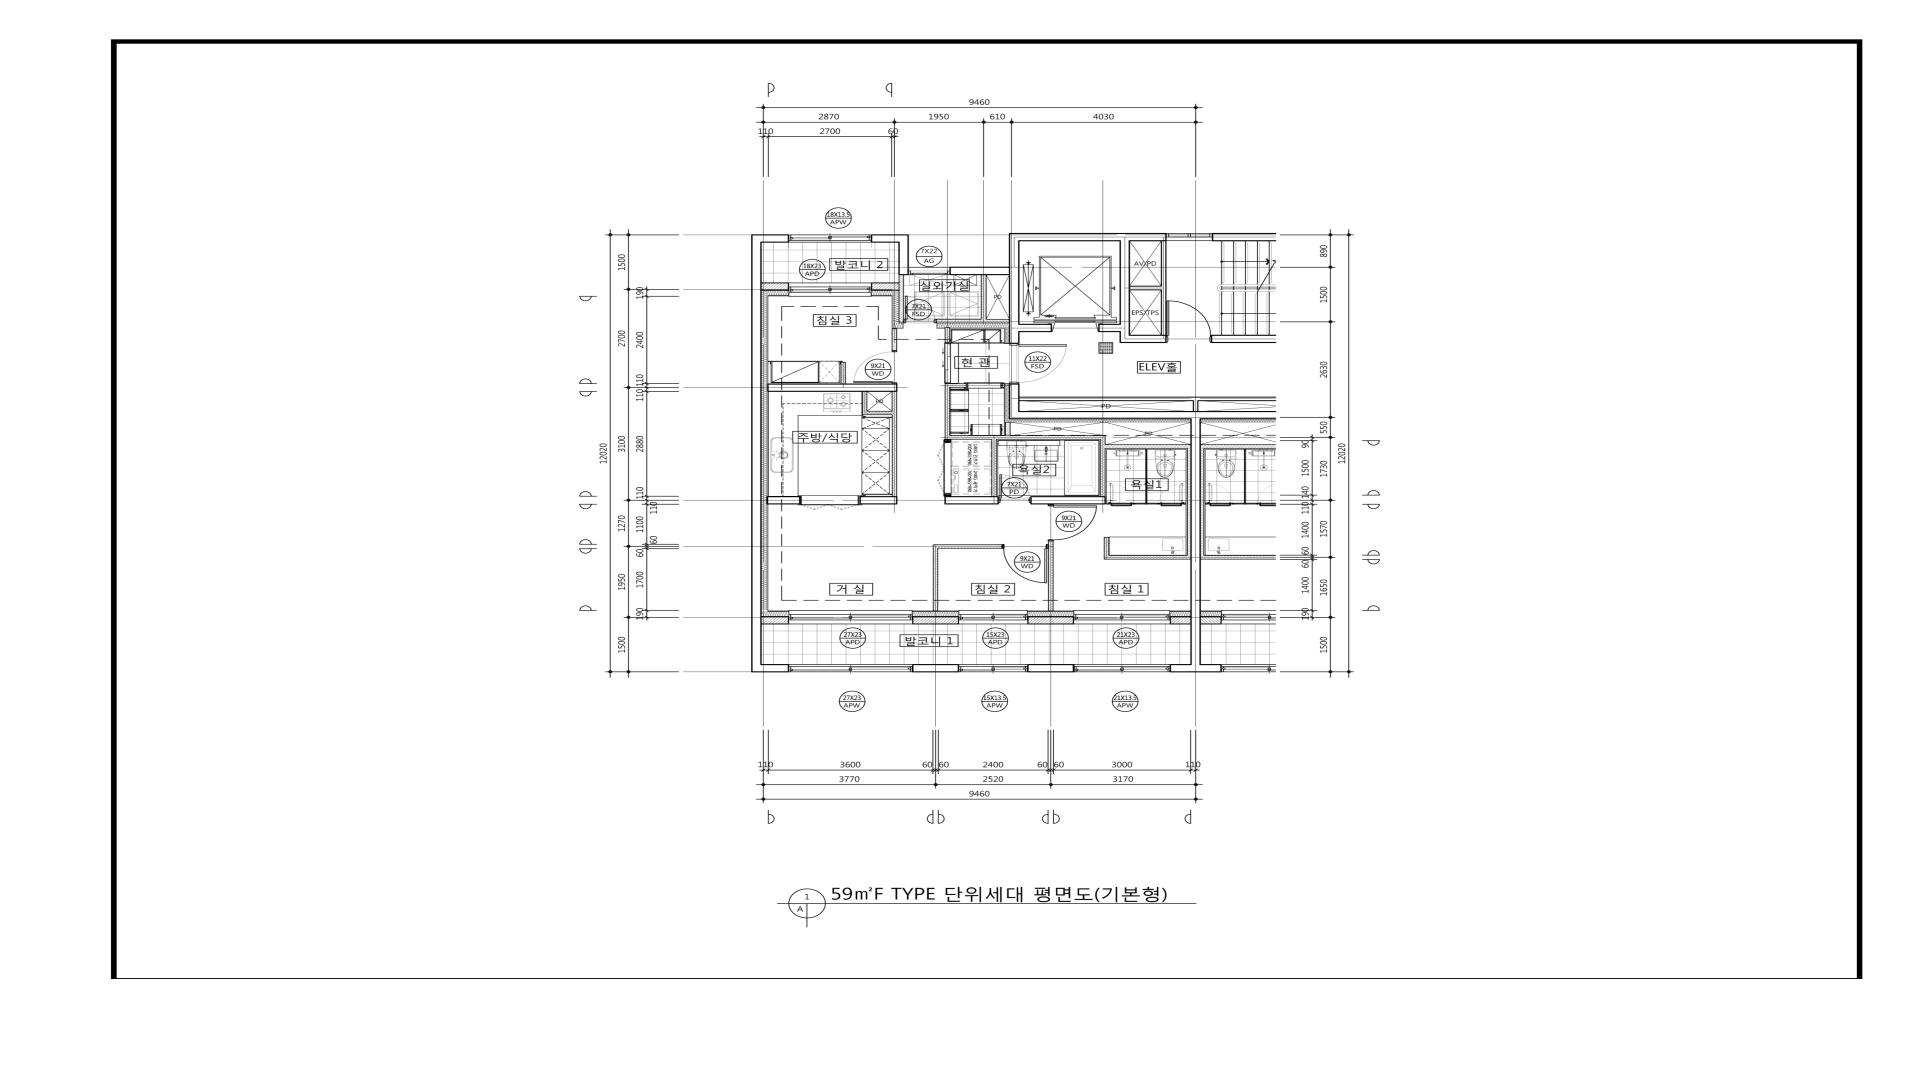door: (1009, 344, 1068, 384), (1166, 301, 1211, 343), (1001, 543, 1048, 583), (1048, 505, 1097, 541), (853, 351, 898, 384), (998, 475, 1031, 504), (936, 439, 952, 497), (903, 295, 936, 323), (799, 495, 860, 509), (944, 343, 951, 384), (967, 382, 1004, 389)
wall: (752, 243, 761, 665), (1191, 419, 1201, 665), (1019, 411, 1276, 419), (1009, 233, 1166, 241), (1009, 241, 1019, 344), (767, 384, 897, 392), (1019, 397, 1276, 401), (1120, 241, 1130, 335), (1030, 496, 1105, 505), (944, 435, 1105, 439), (891, 392, 897, 497), (1211, 335, 1276, 343), (1212, 233, 1276, 241), (1162, 241, 1167, 335), (949, 266, 1009, 274), (944, 497, 998, 505), (1187, 448, 1191, 555), (1120, 335, 1167, 343), (1009, 384, 1019, 419), (1048, 541, 1054, 611), (1027, 665, 1073, 673), (913, 616, 959, 624), (913, 665, 959, 673), (1105, 444, 1191, 448), (934, 549, 939, 612), (898, 243, 909, 274), (1109, 555, 1191, 559), (1027, 617, 1073, 624), (1100, 439, 1105, 496), (992, 439, 997, 496), (752, 235, 789, 243), (872, 235, 909, 243), (752, 665, 789, 673), (936, 319, 1009, 323), (944, 384, 949, 435), (934, 545, 1002, 549), (1019, 324, 1052, 332), (766, 496, 799, 504), (761, 616, 789, 625), (1170, 665, 1201, 673), (898, 276, 903, 323), (860, 497, 897, 504), (870, 282, 899, 290), (981, 276, 986, 319), (761, 282, 789, 290), (1098, 323, 1120, 332), (861, 392, 868, 415), (1170, 617, 1191, 624), (1130, 286, 1162, 290), (891, 328, 897, 351), (1104, 537, 1109, 559), (840, 363, 845, 384), (866, 411, 891, 415), (944, 327, 949, 343), (949, 384, 967, 388), (1193, 401, 1199, 411)
window: (789, 611, 913, 624), (1073, 611, 1170, 624), (789, 282, 872, 297), (789, 665, 913, 673), (959, 611, 1027, 624), (1073, 665, 1170, 673), (789, 235, 872, 243), (959, 665, 1027, 673), (909, 266, 951, 274)
